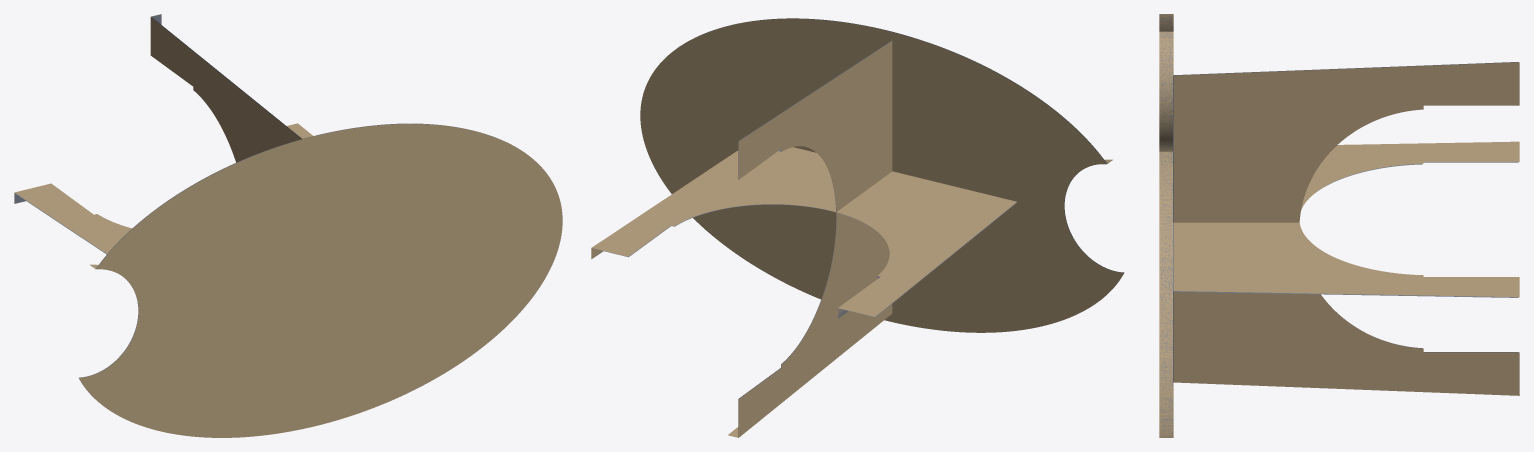
Rendered from NODO_MESA_RATONA_ORGANICA_CUARZO_V2.glb.
3 views of the same model, side by side, from view 1: azimuth 30°, elevation 25°; view 2: azimuth 150°, elevation 25°; view 3: azimuth 270°, elevation 25° (orthographic). The views are drawn at different scales.
Parts seen in each view (by area): view 1: tapa_canto, pataB_canto, pataA_canto; view 2: tapa_canto, pataB_canto, pataA_canto, pataA_cuerpo, tapa_cuerpo; view 3: pataB_canto, pataA_canto, tapa_canto, tapa_cuerpo, pataA_cuerpo, pataB_cuerpo.
Part boxes in pixels (x1=…): tapa_canto: x1=79, y1=123, x2=562, y2=437; pataB_canto: x1=150, y1=14, x2=301, y2=162; pataA_canto: x1=14, y1=123, x2=312, y2=253; tapa_canto: x1=640, y1=18, x2=1123, y2=332; pataB_canto: x1=728, y1=38, x2=892, y2=437; pataA_canto: x1=591, y1=147, x2=1017, y2=319; pataA_cuerpo: x1=592, y1=202, x2=1016, y2=318; tapa_cuerpo: x1=699, y1=18, x2=1123, y2=299; pataB_canto: x1=1173, y1=62, x2=1519, y2=395; pataA_canto: x1=1173, y1=141, x2=1519, y2=297; tapa_canto: x1=1159, y1=14, x2=1173, y2=437; tapa_cuerpo: x1=1160, y1=15, x2=1172, y2=437; pataA_cuerpo: x1=1173, y1=162, x2=1518, y2=297; pataB_cuerpo: x1=1173, y1=62, x2=1518, y2=382.
Size of the model in its own units: 0.7852 by 0.46 by 0.45.
